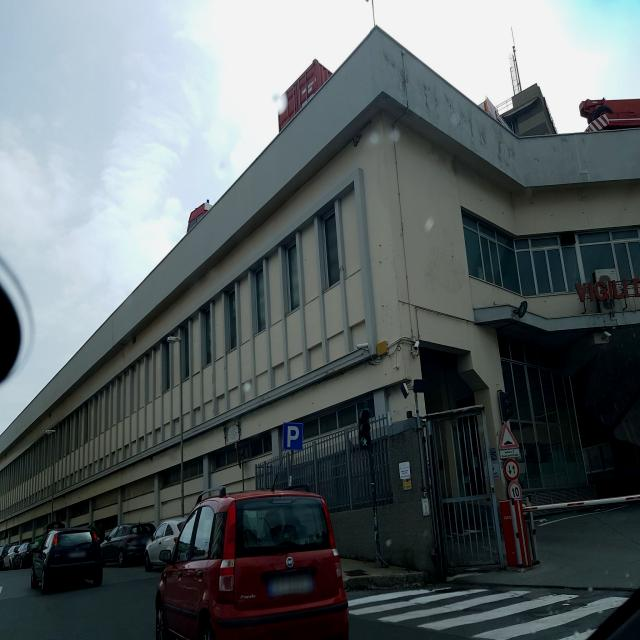car: (154, 484, 350, 640), (31, 526, 104, 592), (100, 522, 156, 568), (143, 517, 188, 572), (14, 541, 36, 568), (0, 544, 21, 570)
